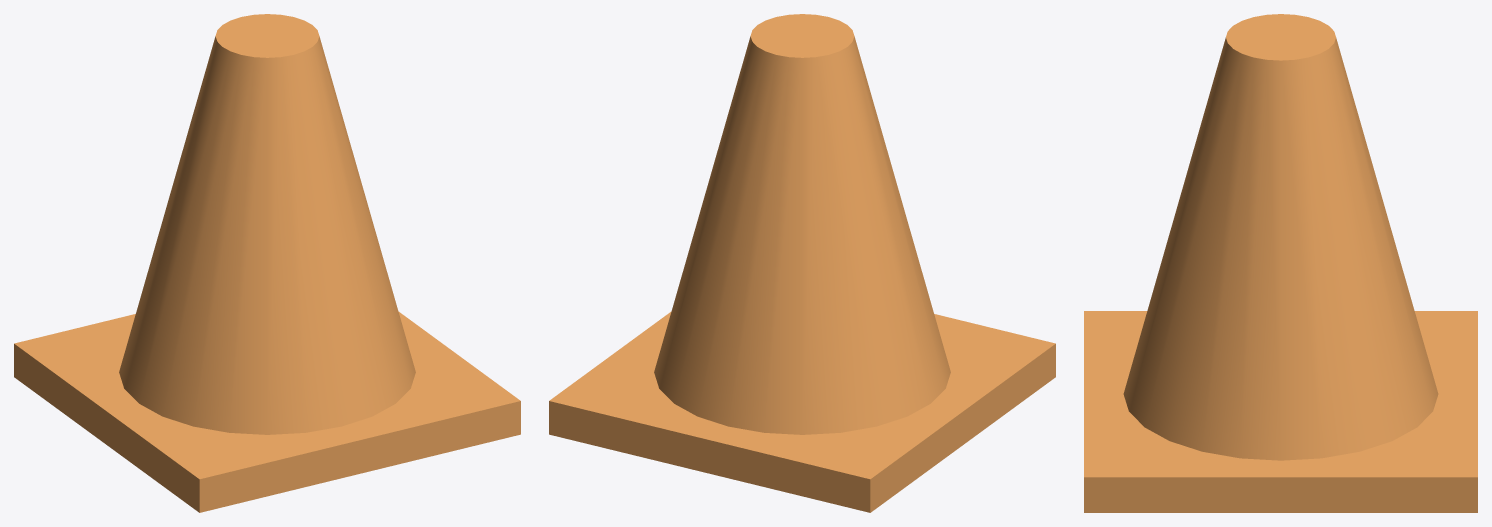
File: pylon.glb
3 renders of one model, left to right at view 1: azimuth 30°, elevation 25°; view 2: azimuth 150°, elevation 25°; view 3: azimuth 270°, elevation 25°, orthographic. The views are drawn at different scales.
Visible parts, largest first — view 1: pylon(Clone); view 2: pylon(Clone); view 3: pylon(Clone).
Part boxes in pixels (<box>): pylon(Clone): <box>14,14,520,512</box>; pylon(Clone): <box>549,14,1055,512</box>; pylon(Clone): <box>1084,14,1477,512</box>.
Size of the model in its own units: 0.12 by 0.132 by 0.12.
